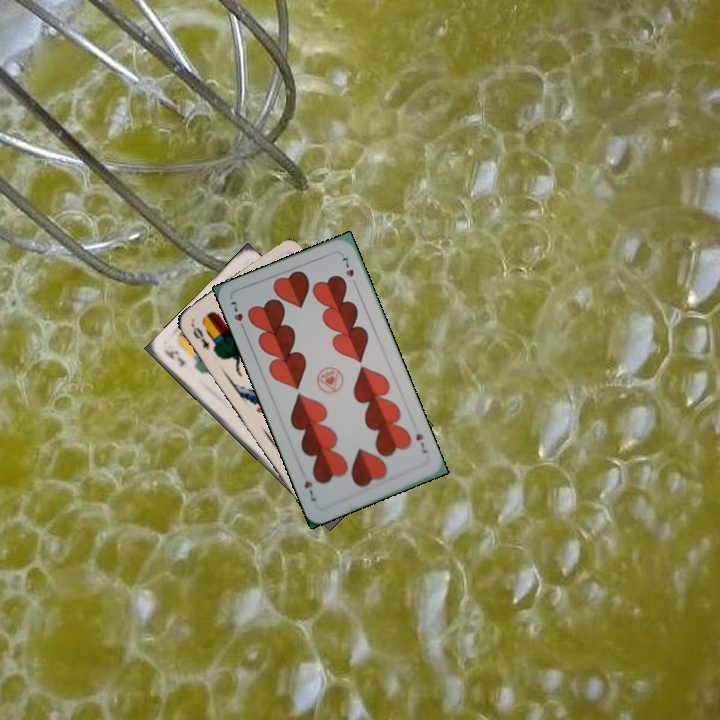EK: (162, 346, 188, 370)
EO: (188, 320, 212, 353)
H7: (226, 297, 249, 334), (412, 430, 430, 456)
